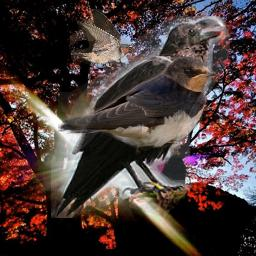Crow: (51, 16, 230, 218)
Swallow: (58, 54, 216, 155), (70, 9, 135, 68)
